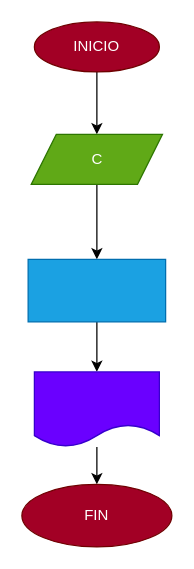
Image size: 194x569. Some labels were removed from this diagram. The centre of each missing label's shape, as x and y in pixels:
K,F: point 96,409
K=°C + 273.15 F=(°C * 9/5) + 32: point 96,290
